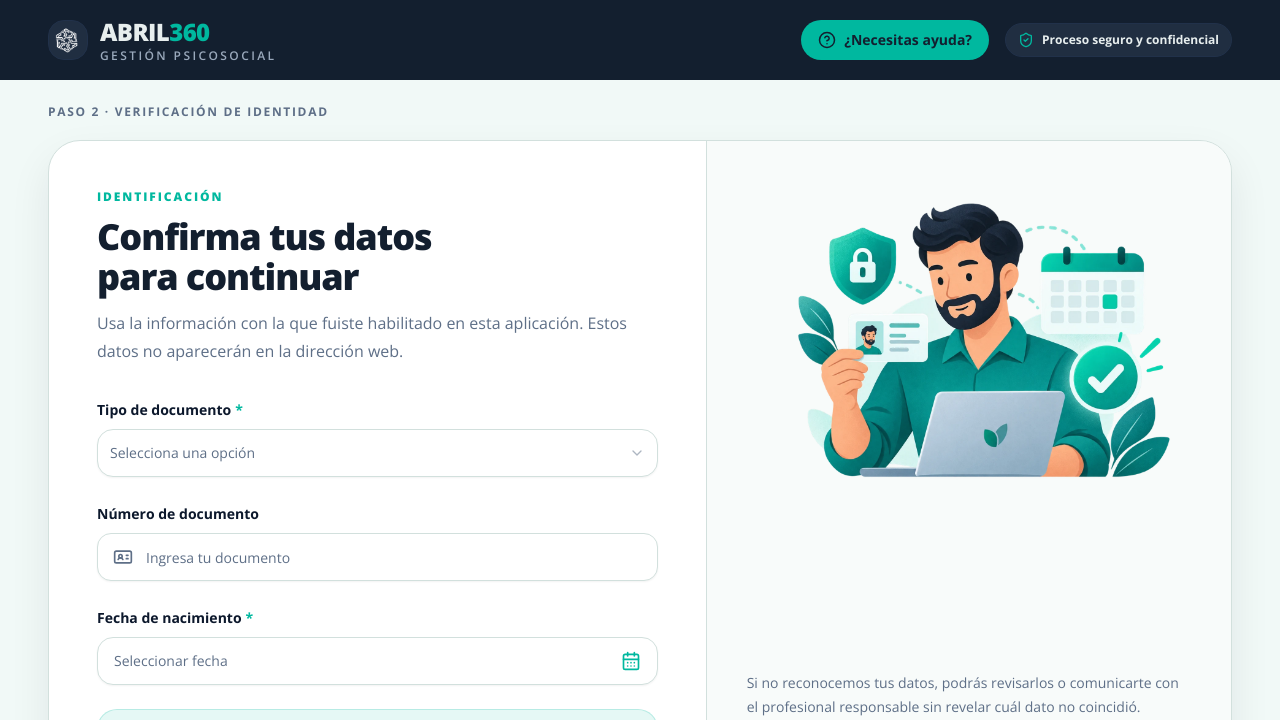
Test case: flujo público WEB_DIRECT › descarta caracteres del número de documento
Step 1. Type "12A.34-56" into the field labelled "Número de documento" → [377, 557], box [97,533,658,581]
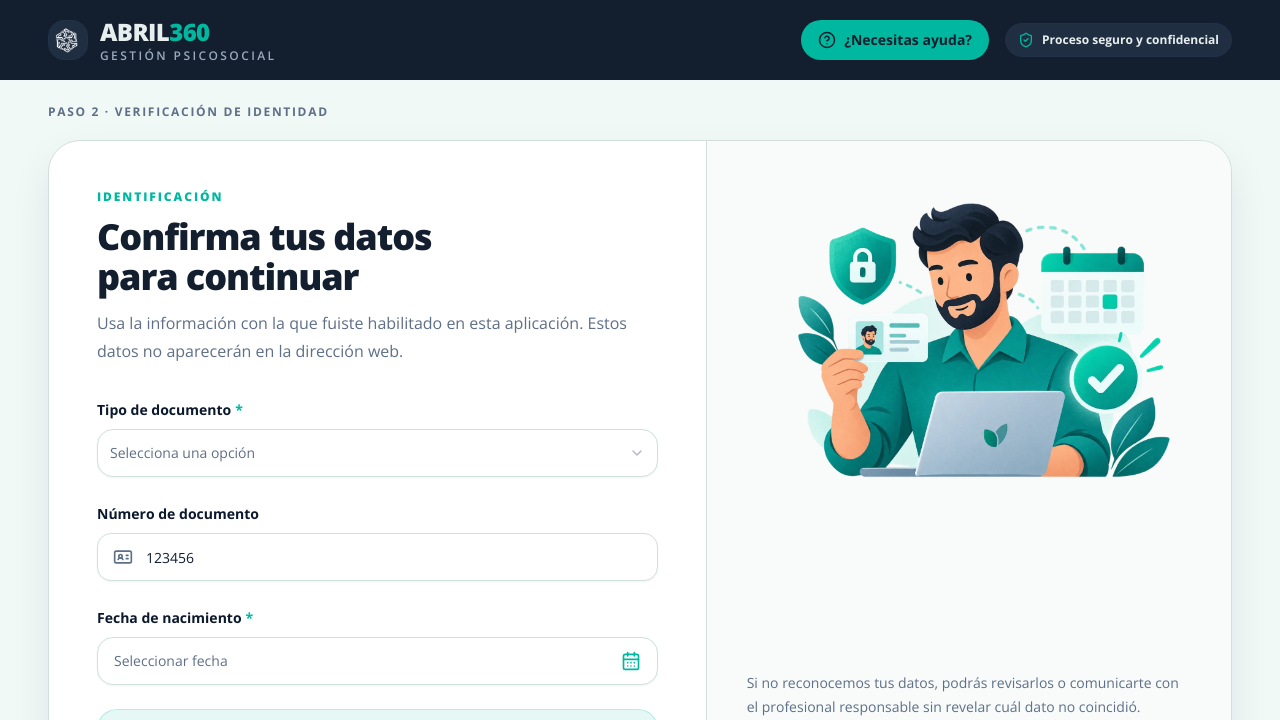
expect the field labelled "Número de documento" holds "123456": met, box [97,533,658,581]
